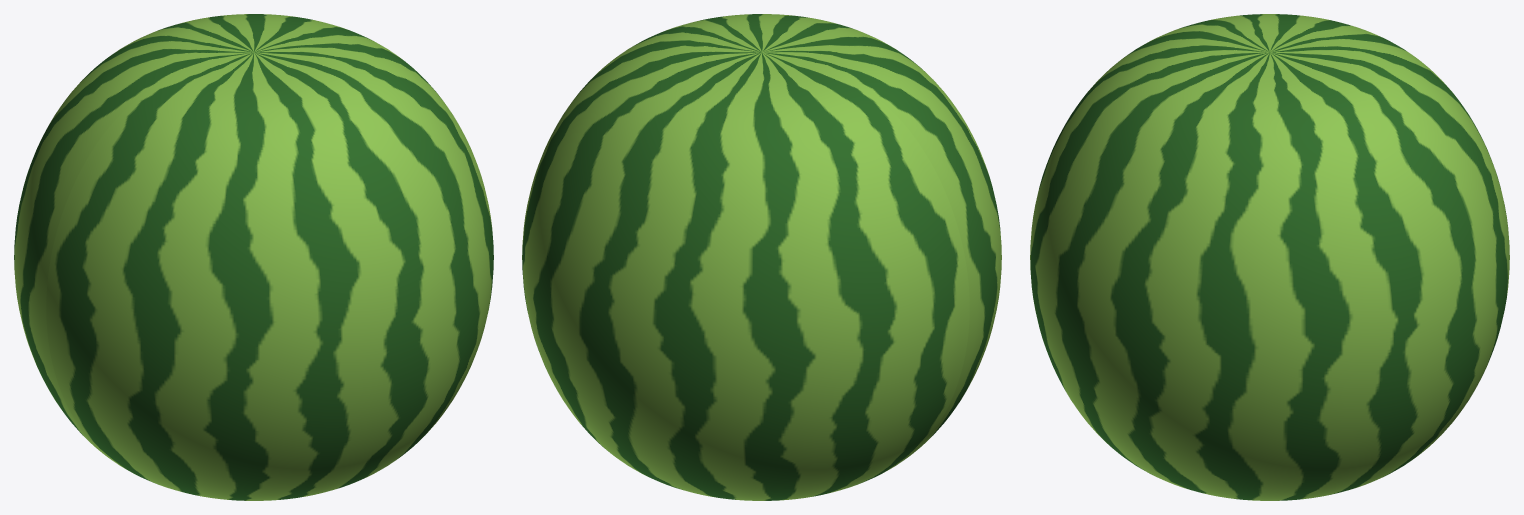
Rendered from watermelon.glb.
3 views of the same model, side by side, from view 1: azimuth 30°, elevation 25°; view 2: azimuth 150°, elevation 25°; view 3: azimuth 270°, elevation 25° (orthographic).
Bounding box in the file's own units: 0.17 × 0.1603 × 0.17.
Materials: 1 (1 with a texture image).
